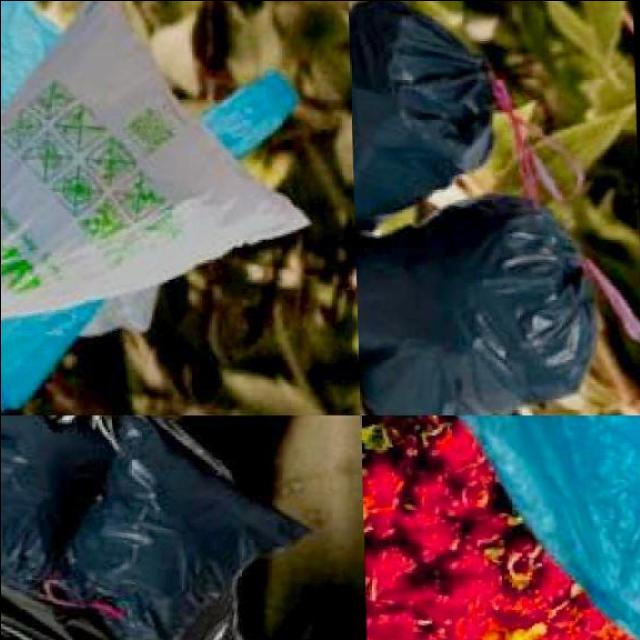plastik: (0, 0, 314, 412), (0, 0, 306, 318), (61, 416, 305, 640), (356, 199, 595, 413), (462, 415, 640, 639), (349, 0, 491, 226), (0, 415, 109, 590)
